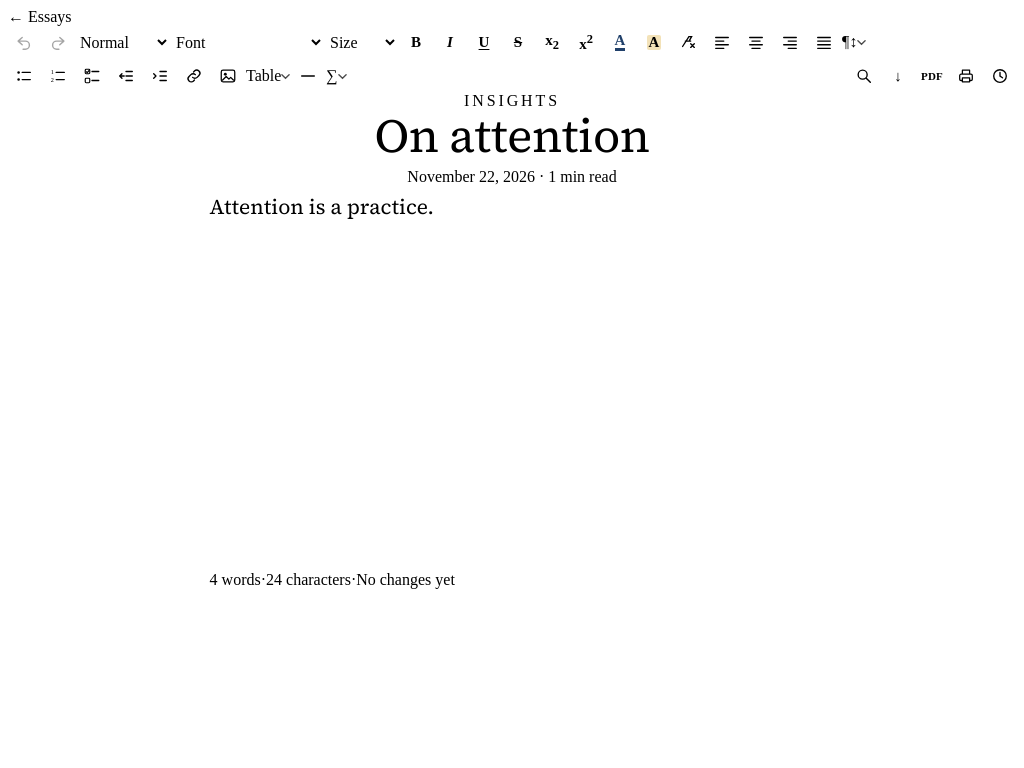
EssayEditor › saves 800 ms after a title change, and the status line says when
The image size is (1024, 768).
Type "!" into the text box named "title".
click(512, 139); type("!")  # box [210,110,814,168]
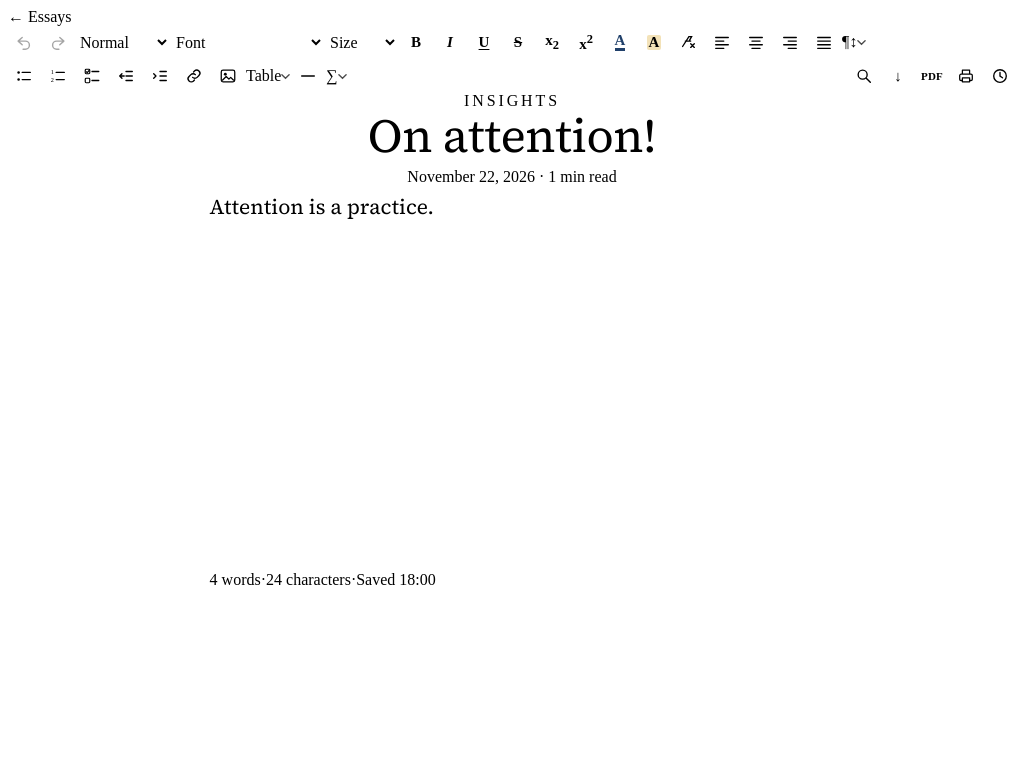
Result: the text "Saved 18:00" is shown at [356,571,436,589]
